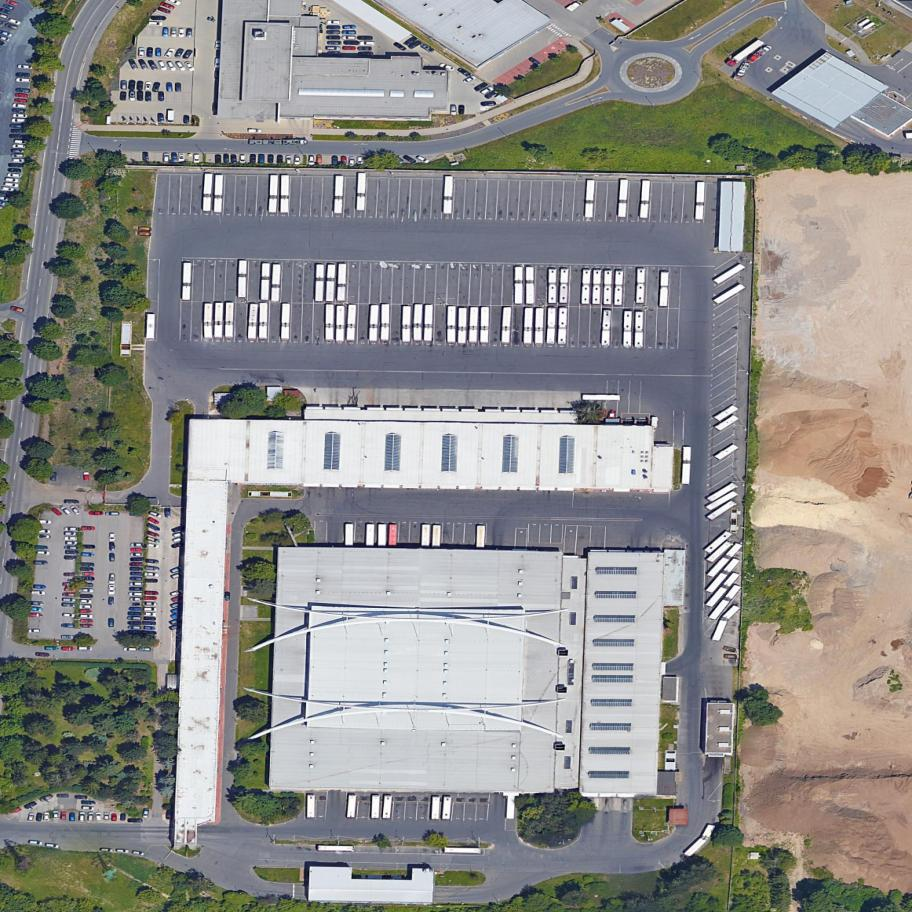large-vehicle: (706, 540, 744, 580), (705, 555, 742, 596), (705, 569, 742, 609), (683, 820, 718, 861), (710, 601, 741, 645), (725, 37, 766, 70), (703, 528, 734, 556), (713, 261, 746, 286), (713, 282, 746, 307), (705, 489, 740, 512), (706, 539, 735, 566), (707, 480, 739, 504), (706, 498, 738, 522), (714, 412, 741, 434), (713, 402, 740, 423), (713, 442, 740, 462), (600, 309, 613, 347), (213, 302, 226, 339), (314, 263, 326, 302), (333, 175, 345, 214), (681, 446, 693, 485), (617, 179, 629, 218), (202, 173, 214, 212), (346, 304, 358, 342), (268, 175, 280, 213), (181, 262, 193, 300), (247, 303, 259, 341), (280, 303, 292, 341), (423, 305, 435, 342), (237, 260, 249, 297), (203, 303, 215, 340), (640, 179, 651, 219), (271, 263, 282, 302), (356, 172, 367, 211), (443, 175, 454, 214), (380, 303, 391, 341), (335, 305, 346, 343), (336, 263, 347, 301), (447, 306, 458, 344), (523, 307, 534, 345), (325, 264, 336, 302), (213, 175, 224, 213), (695, 182, 706, 220), (581, 268, 592, 305), (534, 308, 545, 345), (557, 307, 568, 344), (469, 307, 480, 343), (659, 271, 670, 307), (622, 311, 633, 347), (591, 269, 602, 305), (514, 266, 524, 305), (586, 179, 596, 218), (635, 268, 646, 303), (502, 306, 512, 344), (548, 268, 558, 305), (369, 305, 379, 342), (457, 307, 467, 344), (547, 307, 557, 344), (480, 307, 490, 343), (225, 303, 235, 339), (634, 312, 644, 348), (582, 393, 622, 402), (614, 270, 624, 306), (414, 303, 423, 342), (603, 270, 613, 305), (526, 267, 535, 305), (325, 304, 334, 342), (281, 175, 290, 213), (259, 302, 268, 340), (402, 306, 411, 343), (261, 263, 270, 300), (560, 268, 569, 304), (346, 794, 358, 819), (442, 795, 453, 821), (371, 794, 382, 819), (388, 524, 399, 549), (475, 525, 486, 549), (318, 845, 355, 852), (445, 847, 482, 854), (505, 796, 516, 819), (366, 523, 376, 548), (421, 524, 431, 549), (430, 795, 440, 820), (378, 524, 388, 548), (146, 314, 155, 340), (345, 523, 354, 547), (432, 525, 441, 549), (307, 794, 316, 818), (383, 795, 392, 819)
small-vehicle: (735, 60, 752, 80), (566, 0, 584, 14), (162, 45, 177, 61), (402, 152, 419, 166), (155, 3, 173, 16), (484, 89, 502, 102), (392, 40, 409, 53), (420, 42, 437, 55), (472, 81, 489, 94), (479, 84, 496, 97), (174, 58, 188, 73), (181, 47, 195, 62), (403, 34, 418, 48), (137, 56, 150, 72), (407, 38, 423, 51), (457, 66, 473, 79), (414, 153, 431, 165), (59, 504, 73, 518), (145, 515, 161, 527), (146, 521, 162, 533), (439, 62, 456, 73), (184, 58, 196, 73), (128, 57, 140, 72), (462, 74, 478, 85), (144, 535, 161, 545), (528, 55, 542, 67), (173, 47, 185, 61), (23, 800, 38, 811), (159, 1, 177, 10), (144, 530, 162, 539), (148, 510, 164, 520), (51, 506, 64, 518), (151, 80, 162, 94), (166, 59, 177, 73), (148, 58, 159, 72), (4, 22, 21, 31), (9, 305, 24, 315), (169, 565, 184, 575), (169, 617, 184, 627), (168, 622, 183, 632), (169, 600, 184, 610), (2, 181, 20, 189), (7, 17, 23, 26), (170, 524, 186, 533), (169, 589, 185, 598), (158, 59, 169, 72), (71, 504, 82, 517), (2, 2, 16, 12), (39, 793, 53, 803), (170, 571, 185, 580), (170, 606, 185, 615), (26, 811, 36, 823), (171, 531, 186, 539), (6, 172, 23, 179), (44, 842, 61, 849), (8, 806, 21, 815), (108, 572, 117, 585), (171, 611, 184, 620), (170, 595, 183, 604), (18, 64, 34, 71), (167, 109, 175, 123), (8, 167, 24, 174), (27, 839, 43, 846), (144, 565, 160, 572), (172, 536, 186, 544), (171, 541, 185, 549), (144, 558, 160, 565), (11, 118, 29, 124), (294, 155, 303, 167), (150, 15, 167, 21), (147, 20, 164, 26), (10, 128, 27, 134), (343, 40, 360, 46), (78, 561, 95, 567), (61, 602, 78, 608), (144, 81, 153, 92), (82, 471, 91, 482), (163, 507, 172, 518), (177, 152, 186, 163), (35, 812, 44, 823), (214, 40, 223, 51), (214, 58, 223, 69), (131, 849, 145, 856), (16, 72, 32, 78), (16, 77, 32, 83), (16, 87, 32, 93), (15, 93, 31, 99), (13, 113, 29, 119), (64, 526, 80, 532), (81, 800, 97, 806), (128, 591, 144, 597), (32, 560, 48, 566), (78, 645, 94, 651), (27, 606, 43, 612), (60, 612, 76, 618), (78, 613, 94, 619), (157, 92, 166, 102), (146, 48, 155, 58), (13, 108, 28, 114), (14, 139, 29, 145), (6, 163, 24, 168), (325, 46, 343, 51), (358, 46, 373, 52), (86, 812, 95, 822), (214, 155, 223, 165), (35, 652, 50, 658), (128, 611, 143, 617), (33, 584, 48, 590), (128, 90, 136, 101), (162, 27, 170, 38), (193, 153, 201, 164), (142, 151, 150, 162), (162, 152, 170, 163), (52, 810, 60, 821), (78, 812, 86, 823), (95, 812, 103, 823), (165, 809, 173, 820), (450, 104, 458, 115), (231, 154, 239, 165), (267, 153, 275, 164), (12, 103, 29, 108), (325, 51, 342, 56), (43, 646, 60, 651), (27, 601, 44, 606), (1, 186, 15, 192), (13, 143, 27, 149), (458, 104, 465, 116), (79, 604, 93, 610), (64, 554, 78, 560), (174, 83, 183, 92), (108, 532, 117, 541), (129, 80, 137, 90), (138, 48, 146, 58), (80, 526, 96, 531), (4, 178, 20, 183), (183, 114, 191, 124), (359, 52, 375, 57), (360, 41, 376, 46), (341, 30, 357, 35), (44, 812, 52, 822), (103, 812, 111, 822), (481, 101, 497, 106), (143, 572, 159, 577), (78, 588, 94, 593), (108, 541, 116, 551), (65, 550, 81, 555), (33, 545, 49, 550), (35, 550, 51, 555), (61, 597, 77, 602), (78, 609, 94, 614), (75, 795, 88, 801), (131, 576, 144, 582), (158, 112, 165, 123), (143, 808, 150, 819), (108, 584, 115, 595), (14, 98, 29, 103), (64, 499, 79, 504), (89, 511, 104, 516), (37, 529, 52, 534), (9, 134, 24, 139), (326, 41, 341, 46), (326, 35, 341, 40), (341, 25, 356, 30), (326, 25, 341, 30), (31, 590, 46, 595), (143, 578, 158, 583), (80, 552, 95, 557), (127, 616, 142, 621), (60, 646, 75, 651), (144, 590, 159, 595), (143, 601, 158, 606), (155, 48, 163, 57), (119, 814, 128, 822), (214, 70, 222, 79), (139, 647, 151, 653), (121, 80, 128, 90), (137, 81, 144, 91), (166, 82, 173, 92), (145, 92, 152, 102), (137, 91, 144, 101), (120, 91, 127, 101), (178, 28, 185, 38), (170, 27, 177, 37), (64, 531, 78, 536), (326, 30, 340, 35), (60, 811, 67, 821), (129, 818, 143, 823), (79, 582, 93, 587), (224, 154, 231, 164), (258, 154, 265, 164), (309, 156, 316, 166), (130, 571, 144, 576), (130, 567, 144, 572), (81, 567, 95, 572), (78, 599, 92, 604), (130, 543, 144, 548), (130, 547, 144, 552), (130, 586, 144, 591), (144, 612, 158, 617), (61, 624, 75, 629), (27, 628, 41, 633), (143, 607, 157, 612), (78, 545, 95, 549), (171, 152, 177, 163), (65, 541, 78, 546), (56, 793, 69, 798), (130, 562, 143, 567), (82, 576, 95, 581), (124, 647, 137, 652), (63, 592, 76, 597), (80, 619, 93, 624), (37, 520, 53, 524), (10, 154, 26, 158), (358, 36, 374, 40), (49, 472, 57, 480), (69, 813, 76, 822), (111, 814, 118, 823), (224, 592, 231, 601), (349, 157, 356, 166), (341, 156, 348, 165), (332, 156, 339, 165), (250, 155, 257, 164), (277, 155, 284, 164), (108, 596, 115, 605), (108, 619, 115, 628), (187, 28, 193, 38), (106, 512, 121, 516), (37, 534, 49, 539), (12, 148, 24, 153), (342, 46, 357, 50), (240, 154, 246, 164), (130, 557, 145, 561), (64, 546, 79, 550), (144, 626, 156, 631), (60, 636, 75, 640), (10, 124, 24, 128), (11, 159, 25, 163), (64, 536, 78, 540), (342, 36, 356, 40), (100, 848, 114, 852), (116, 849, 130, 853), (82, 806, 96, 810), (248, 129, 262, 133), (143, 617, 157, 621), (143, 622, 157, 626), (144, 596, 158, 600), (29, 613, 43, 617), (109, 553, 115, 562), (64, 587, 77, 591), (130, 582, 143, 586), (131, 553, 144, 557), (129, 621, 142, 625), (81, 624, 94, 628), (131, 597, 144, 601), (327, 20, 339, 24), (63, 582, 75, 586), (83, 572, 95, 576), (64, 572, 76, 576), (129, 607, 141, 611), (286, 156, 291, 165), (81, 594, 92, 598), (130, 626, 141, 630)
